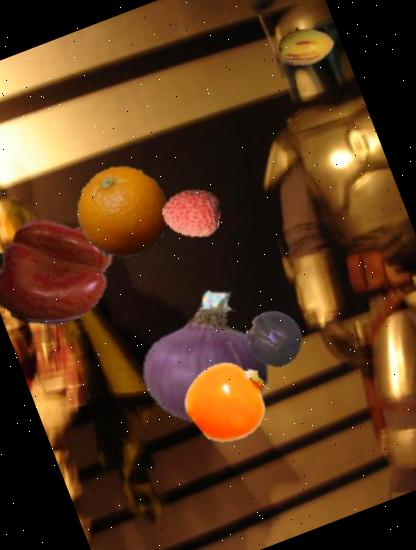Lychee: (154, 174, 228, 250)
Onion: (109, 268, 302, 461)
Orange: (62, 152, 182, 272)
Passion: (236, 300, 312, 376)
Pepino: (268, 8, 342, 82)
Pepper: (0, 196, 126, 348)
Physalis: (176, 348, 282, 453)
